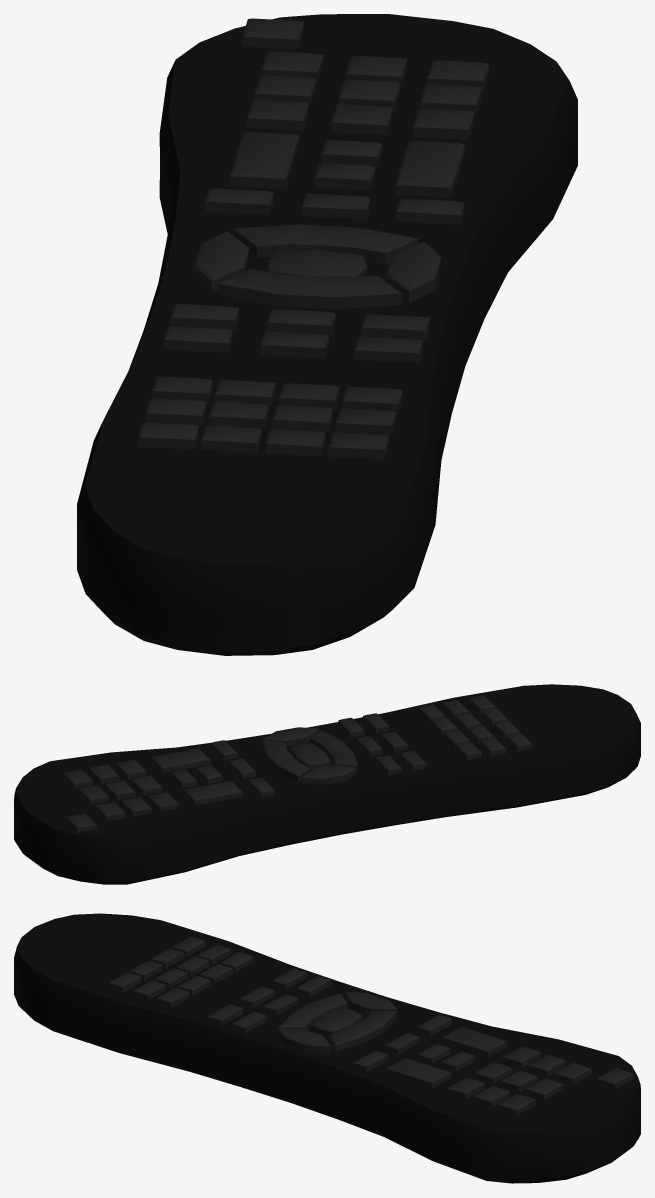
Rendered from remote_controller.obj.
3 renders of one model, top to bottom at view 1: azimuth 30°, elevation 25°; view 2: azimuth 150°, elevation 25°; view 3: azimuth 270°, elevation 25°, orthographic. The views are drawn at different scales.
Visible parts, largest first — view 1: remote_controller_01, remote_controller_01_buttons; view 2: remote_controller_01, remote_controller_01_buttons; view 3: remote_controller_01, remote_controller_01_buttons.
Part boxes in pixels (x1,y1,x2,y2): remote_controller_01: [77, 14, 577, 655]; remote_controller_01_buttons: [138, 18, 488, 459]; remote_controller_01: [14, 684, 640, 884]; remote_controller_01_buttons: [63, 695, 532, 832]; remote_controller_01: [14, 913, 640, 1183]; remote_controller_01_buttons: [108, 936, 633, 1115].
Bounding box in the file's own units: 0.1596 × 0.0198 × 0.1901.
